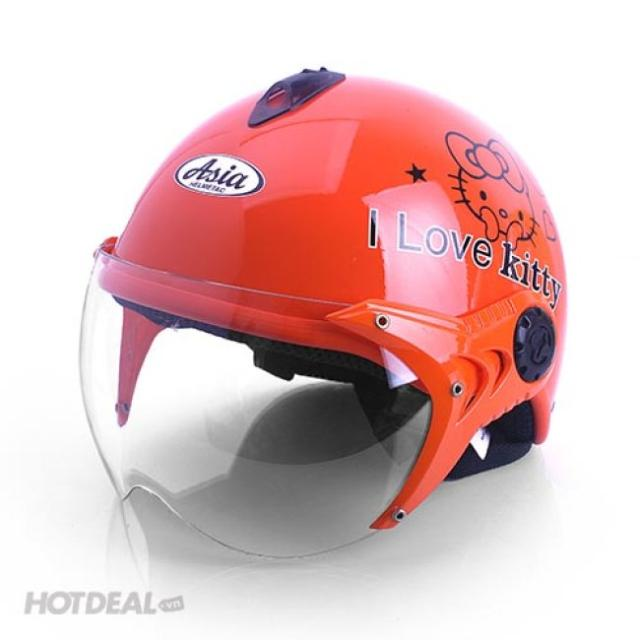Helmet: (78, 64, 572, 553)
